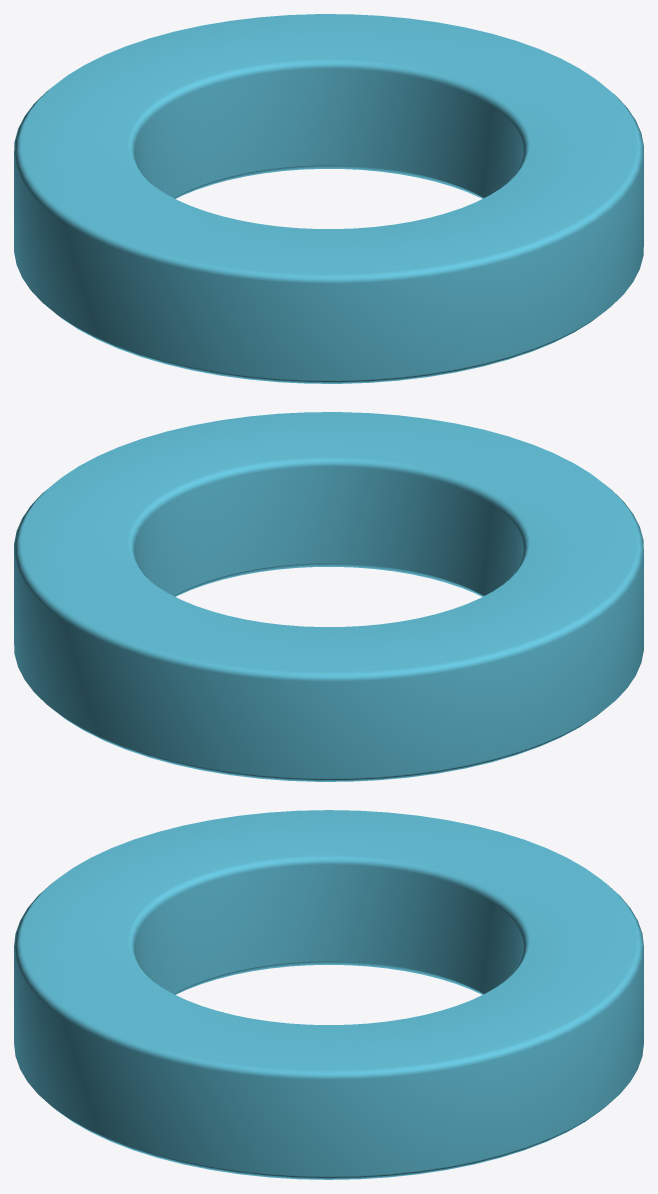
3 renders of one model, top to bottom at view 1: azimuth 30°, elevation 25°; view 2: azimuth 150°, elevation 25°; view 3: azimuth 270°, elevation 25°, orthographic.
Parts seen in each view (by area): view 1: seal_body; view 2: seal_body; view 3: seal_body.
Part boxes in pixels (x1,y1,x2,y2): seal_body: [14, 14, 643, 383]; seal_body: [14, 412, 643, 781]; seal_body: [14, 810, 643, 1179].
Size of the model in its own units: 0.0413 by 0.00793 by 0.0413.
